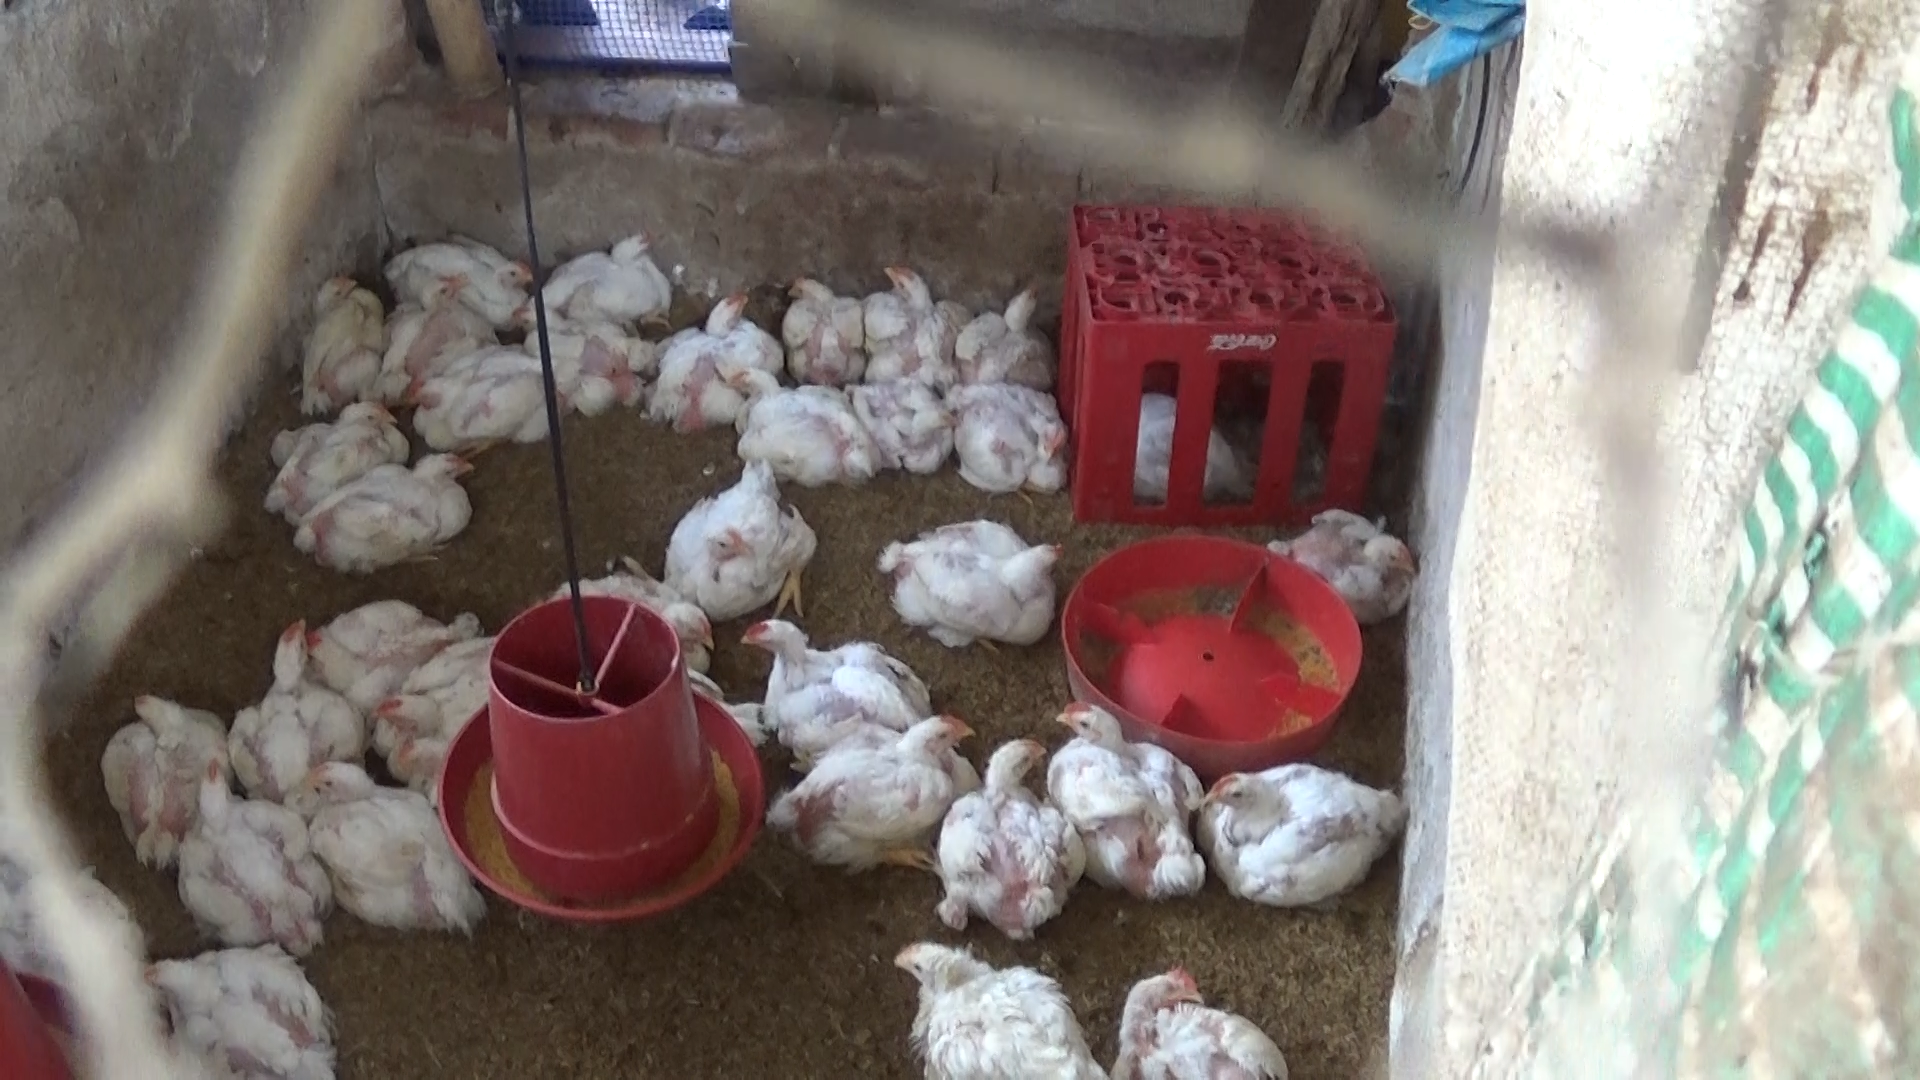Pollos: (1168, 757, 1408, 920), (1033, 692, 1200, 920), (757, 702, 975, 868), (167, 748, 331, 968), (881, 928, 1105, 1080), (934, 731, 1091, 945), (297, 757, 483, 932), (125, 945, 351, 1080), (206, 607, 365, 796), (735, 603, 936, 731), (88, 680, 225, 868), (880, 512, 1062, 651), (284, 444, 491, 567), (662, 463, 814, 626), (306, 578, 492, 708), (1105, 959, 1296, 1080), (365, 626, 505, 782), (252, 393, 426, 512), (367, 241, 498, 396), (638, 284, 786, 419), (1269, 498, 1422, 624), (717, 363, 880, 479), (367, 223, 537, 328), (527, 223, 691, 327), (396, 345, 567, 443), (520, 284, 653, 405), (952, 363, 1067, 497), (862, 253, 981, 381), (286, 262, 381, 415), (851, 367, 965, 477), (956, 285, 1062, 386), (778, 268, 869, 384)
